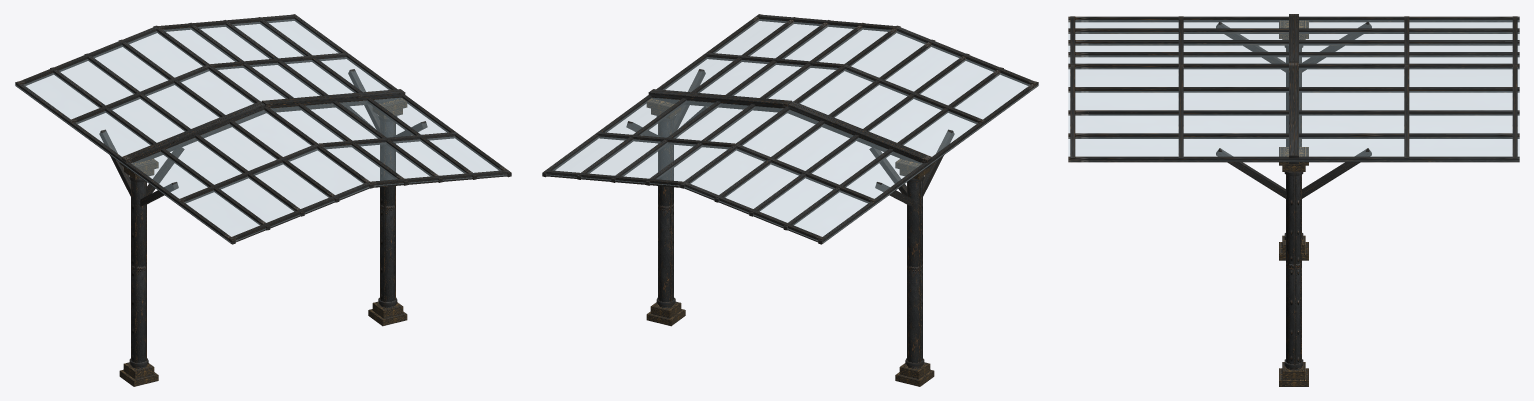
The model's file is platform_canopy_bay.glb.
3 renders of one model, left to right at view 1: azimuth 30°, elevation 25°; view 2: azimuth 150°, elevation 25°; view 3: azimuth 270°, elevation 25°, orthographic. The views are drawn at different scales.
Visible parts, largest first — view 1: glazed_roof, left_canopy_column_shaft, right_canopy_column_shaft, canopy_rafter_left_2, canopy_rafter_right_2, canopy_purlin_0, canopy_purlin_4, canopy_purlin_3, canopy_purlin_2, canopy_purlin_1, canopy_purlin_5, canopy_purlin_6 (+10 smaller); view 2: glazed_roof, left_canopy_column_shaft, right_canopy_column_shaft, canopy_rafter_left_2, canopy_rafter_right_2, canopy_purlin_0, canopy_purlin_4, canopy_purlin_3, canopy_purlin_2, canopy_purlin_1, canopy_purlin_5, canopy_purlin_6 (+10 smaller); view 3: glazed_roof, canopy_purlin_8, right_canopy_column_shaft, canopy_purlin_4, canopy_purlin_0, canopy_purlin_1, canopy_purlin_7, canopy_purlin_2, canopy_purlin_5, canopy_purlin_6, canopy_purlin_3, canopy_rafter_right_2 (+10 smaller).
Boxes of the visible parts, x1=… form: glazed_roof: x1=15, y1=19, x2=506, y2=242; left_canopy_column_shaft: x1=131, y1=178, x2=146, y2=368; right_canopy_column_shaft: x1=380, y1=120, x2=395, y2=307; canopy_rafter_left_2: x1=121, y1=101, x2=265, y2=168; canopy_rafter_right_2: x1=261, y1=89, x2=405, y2=113; canopy_purlin_0: x1=15, y1=81, x2=235, y2=244; canopy_purlin_4: x1=153, y1=25, x2=373, y2=188; canopy_purlin_3: x1=118, y1=39, x2=339, y2=202; canopy_purlin_2: x1=84, y1=53, x2=304, y2=216; canopy_purlin_1: x1=50, y1=67, x2=270, y2=230; canopy_purlin_5: x1=188, y1=22, x2=408, y2=185; canopy_purlin_6: x1=223, y1=20, x2=442, y2=182; glazed_roof: x1=547, y1=19, x2=1038, y2=242; left_canopy_column_shaft: x1=907, y1=178, x2=922, y2=368; right_canopy_column_shaft: x1=658, y1=120, x2=673, y2=307; canopy_rafter_left_2: x1=788, y1=101, x2=932, y2=168; canopy_rafter_right_2: x1=648, y1=89, x2=792, y2=113; canopy_purlin_0: x1=818, y1=81, x2=1038, y2=244; canopy_purlin_4: x1=680, y1=25, x2=900, y2=188; canopy_purlin_3: x1=714, y1=39, x2=935, y2=202; canopy_purlin_2: x1=749, y1=53, x2=969, y2=216; canopy_purlin_1: x1=783, y1=67, x2=1003, y2=230; canopy_purlin_5: x1=645, y1=22, x2=865, y2=185; canopy_purlin_6: x1=611, y1=20, x2=830, y2=182; glazed_roof: x1=1068, y1=20, x2=1519, y2=156; canopy_purlin_8: x1=1068, y1=156, x2=1519, y2=162; right_canopy_column_shaft: x1=1286, y1=172, x2=1301, y2=370; canopy_purlin_4: x1=1068, y1=63, x2=1519, y2=69; canopy_purlin_0: x1=1068, y1=16, x2=1519, y2=22; canopy_purlin_1: x1=1068, y1=28, x2=1519, y2=33; canopy_purlin_7: x1=1068, y1=133, x2=1519, y2=138; canopy_purlin_2: x1=1068, y1=40, x2=1519, y2=45; canopy_purlin_5: x1=1068, y1=87, x2=1519, y2=92; canopy_purlin_6: x1=1068, y1=110, x2=1519, y2=115; canopy_purlin_3: x1=1068, y1=52, x2=1519, y2=57; canopy_rafter_right_2: x1=1289, y1=62, x2=1298, y2=164.
Size of the model in its own units: 6 by 5 by 8.
3 materials, 3 textured.
